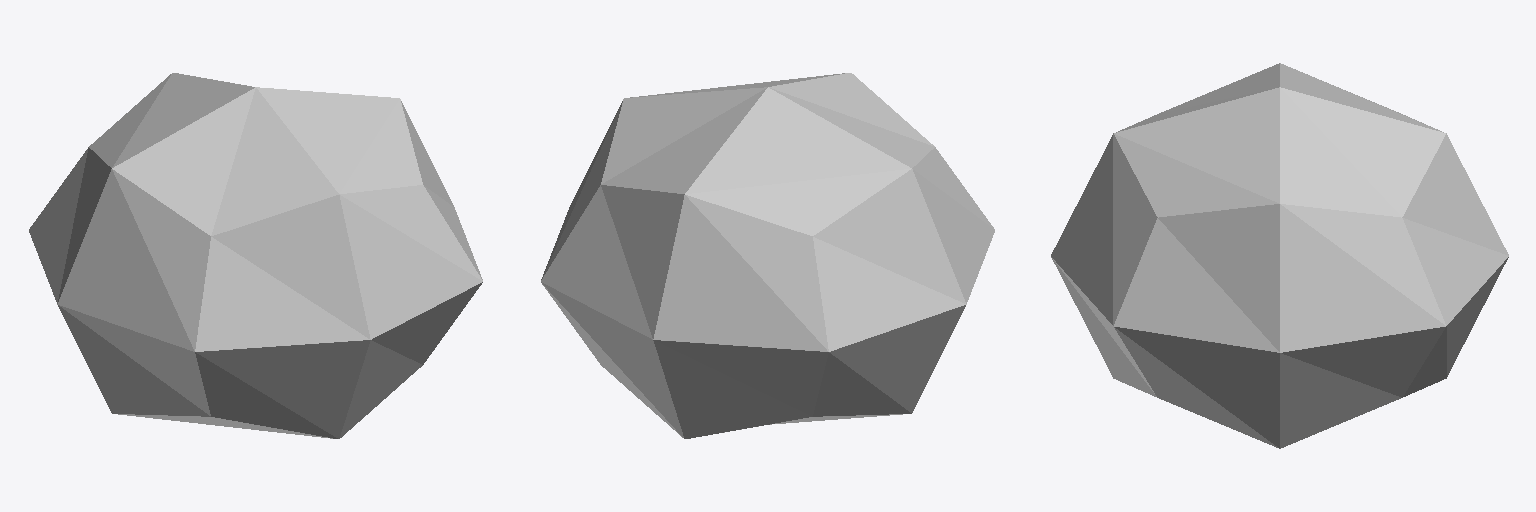
The model's file is smoke-particle.obj.
3 views of the same model, side by side, from view 1: azimuth 30°, elevation 25°; view 2: azimuth 150°, elevation 25°; view 3: azimuth 270°, elevation 25° (orthographic).
Visible parts, largest first — view 1: Cube; view 2: Cube; view 3: Cube.
Boxes of the visible parts, x1=… form: Cube: x1=29, y1=73, x2=482, y2=438; Cube: x1=541, y1=73, x2=994, y2=438; Cube: x1=1051, y1=63, x2=1508, y2=448.
Bounding box in the file's own units: 0.181 × 0.1471 × 0.181.